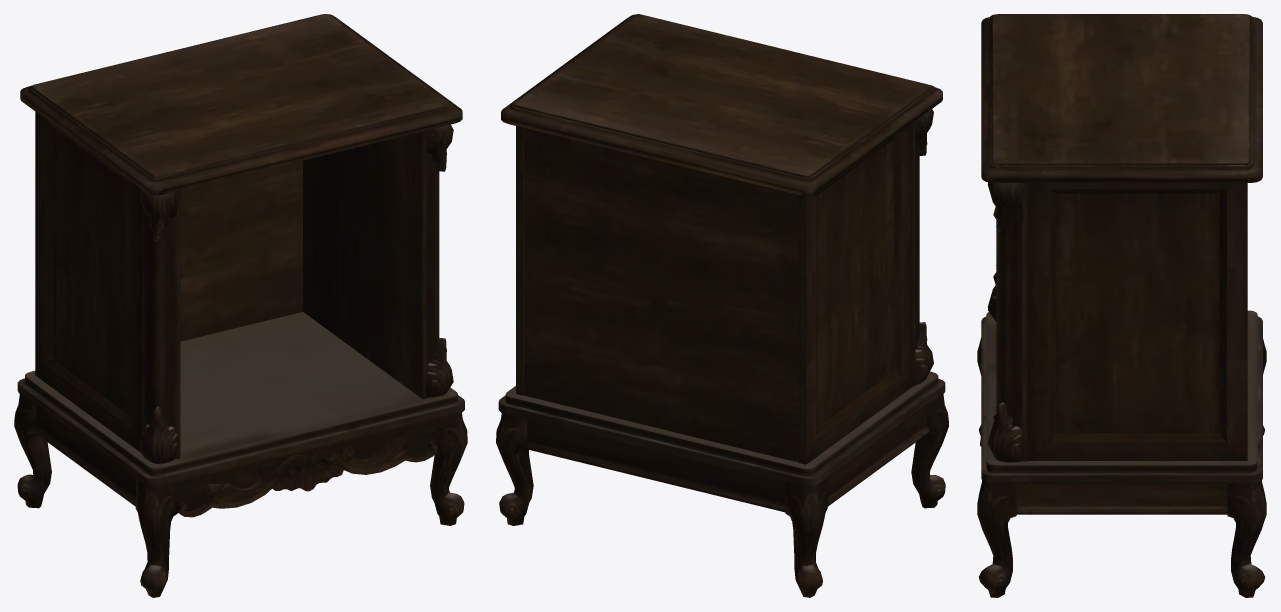
Rendered from ClassicNightstand_01.glb.
The picture shows the model from 3 angles, left to right: view 1: azimuth 30°, elevation 25°; view 2: azimuth 150°, elevation 25°; view 3: azimuth 270°, elevation 25°; orthographic projection. The views are drawn at different scales.
Parts seen in each view (by area): view 1: ClassicNightstand_01; view 2: ClassicNightstand_01; view 3: ClassicNightstand_01.
Boxes of the visible parts, left/top/right/bottom form: ClassicNightstand_01: left=14, top=14, right=467, bottom=597; ClassicNightstand_01: left=496, top=14, right=948, bottom=597; ClassicNightstand_01: left=977, top=14, right=1266, bottom=597.
Bounding box in the file's own units: 0.5678 × 0.7 × 0.4242.
1 material, 1 textured.
